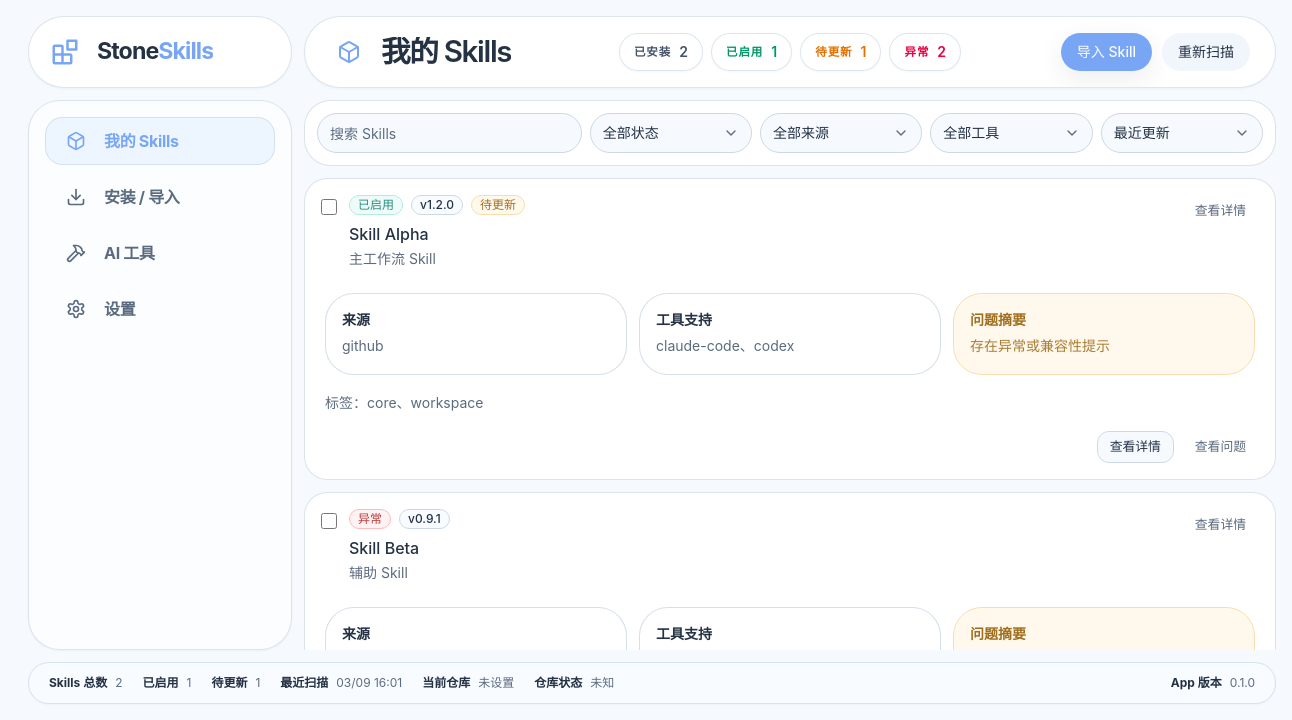
Test: SkillsPage › 导入按钮会跳转到安装与导入页面
The image size is (1292, 720).
Click the button "导入 Skill" at (1106, 52), box [1060,32,1153,72]
(page scrolled)
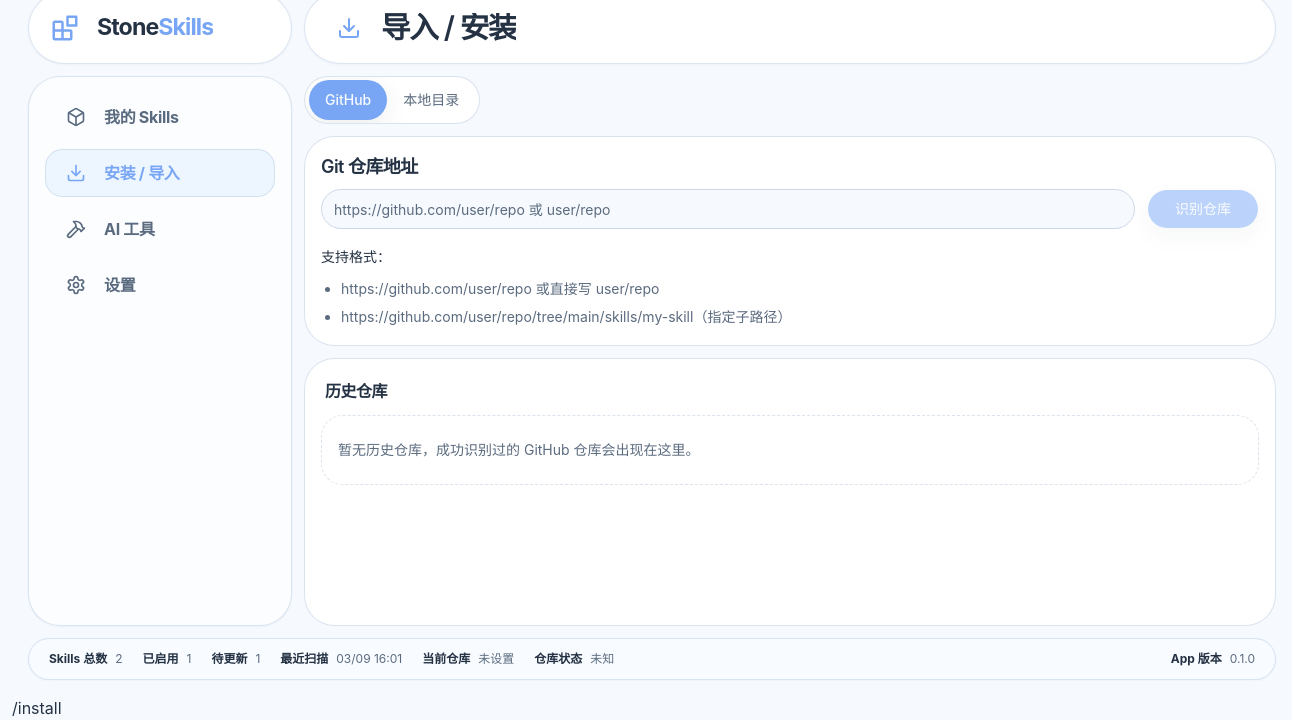
Result: the heading "导入 / 安装" is shown at [381,13,516,43]
Result: the text with test id "location" reads "/install" at [12,698,62,718]
